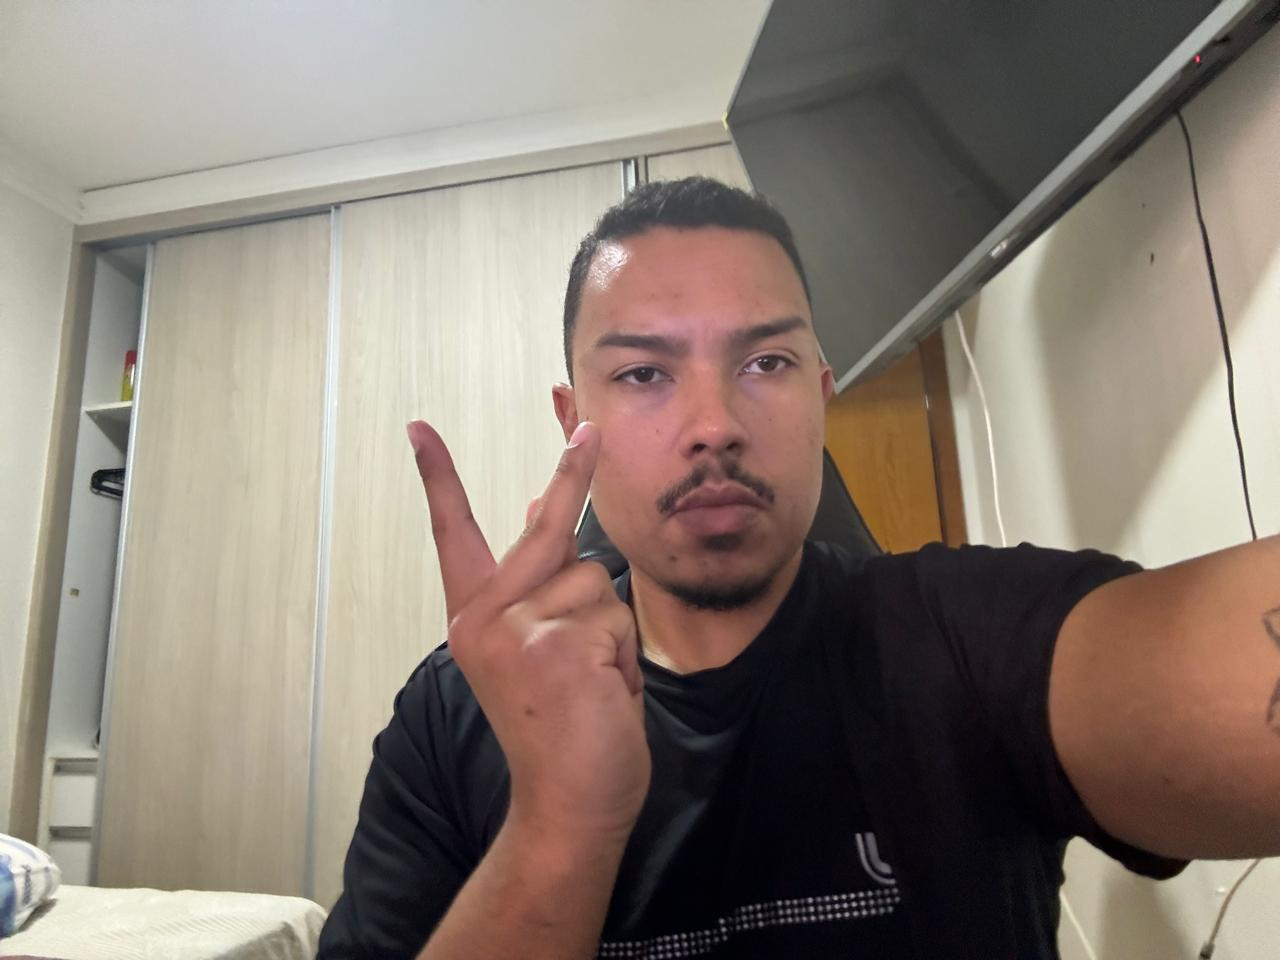h: (401, 411, 669, 843)
